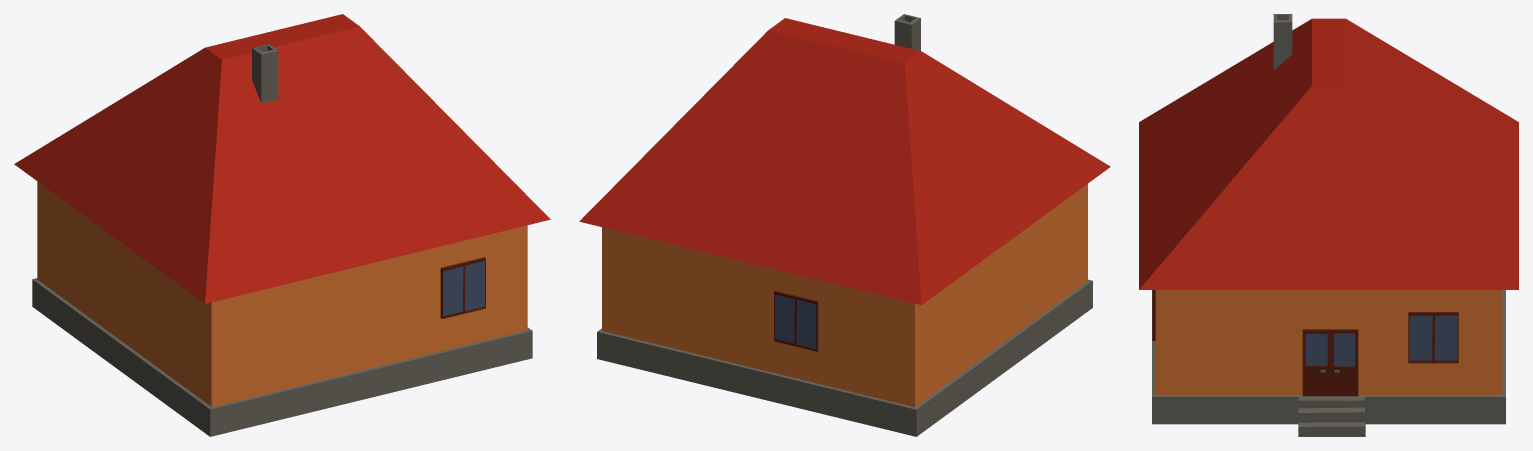
File: OrangeHouse.glb
The picture shows the model from 3 angles, left to right: view 1: azimuth 30°, elevation 25°; view 2: azimuth 150°, elevation 25°; view 3: azimuth 270°, elevation 25°; orthographic projection.
Parts seen in each view (by area): view 1: Cube.014; view 2: Cube.014; view 3: Cube.014.
Boxes of the visible parts, x1=… form: Cube.014: x1=14, y1=14, x2=550, y2=436; Cube.014: x1=579, y1=14, x2=1110, y2=436; Cube.014: x1=1139, y1=14, x2=1518, y2=436.
Size of the model in its own units: 1.9 by 1.57 by 1.74.
